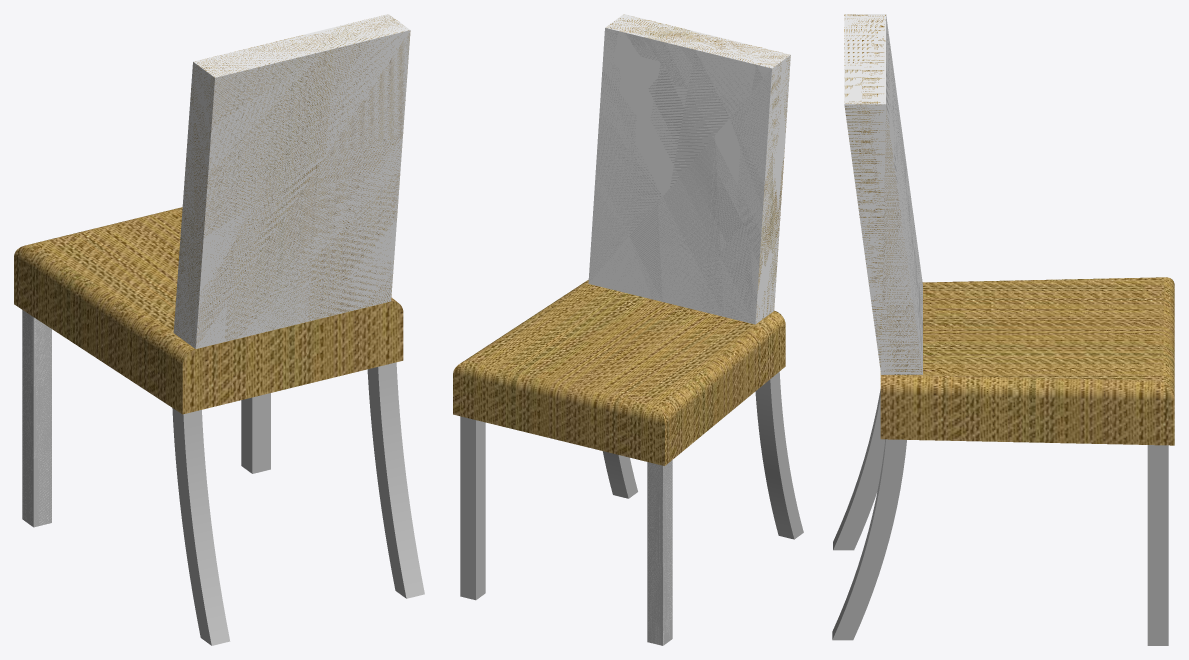
3 renders of one model, left to right at view 1: azimuth 30°, elevation 25°; view 2: azimuth 150°, elevation 25°; view 3: azimuth 270°, elevation 25°, orthographic. The views are drawn at different scales.
Parts seen in each view (by area): view 1: mesh10_mesh10-geometry, mesh4_mesh4-geometry, mesh2_mesh2-geometry, mesh8_mesh8-geometry, mesh1_mesh1-geometry, mesh6_mesh6-geometry; view 2: mesh10_mesh10-geometry, mesh4_mesh4-geometry, mesh1_mesh1-geometry, mesh6_mesh6-geometry, mesh2_mesh2-geometry, mesh8_mesh8-geometry; view 3: mesh4_mesh4-geometry, mesh10_mesh10-geometry, mesh8_mesh8-geometry, mesh6_mesh6-geometry, mesh2_mesh2-geometry.
Part boxes in pixels (<box>): mesh10_mesh10-geometry: <box>173,14,410,348</box>; mesh4_mesh4-geometry: <box>14,207,403,414</box>; mesh2_mesh2-geometry: <box>172,408,230,645</box>; mesh8_mesh8-geometry: <box>367,362,424,598</box>; mesh1_mesh1-geometry: <box>22,310,51,527</box>; mesh6_mesh6-geometry: <box>241,393,270,473</box>; mesh10_mesh10-geometry: <box>588,14,790,324</box>; mesh4_mesh4-geometry: <box>453,280,785,465</box>; mesh1_mesh1-geometry: <box>647,460,672,645</box>; mesh6_mesh6-geometry: <box>460,416,485,600</box>; mesh2_mesh2-geometry: <box>755,372,803,539</box>; mesh8_mesh8-geometry: <box>602,451,637,498</box>; mesh4_mesh4-geometry: <box>880,277,1174,445</box>; mesh10_mesh10-geometry: <box>844,14,922,374</box>; mesh8_mesh8-geometry: <box>832,439,906,640</box>; mesh6_mesh6-geometry: <box>1147,445,1168,645</box>; mesh2_mesh2-geometry: <box>833,389,885,550</box>.
Bounding box in the file's own units: 0.3707 × 0.8023 × 0.4679.
